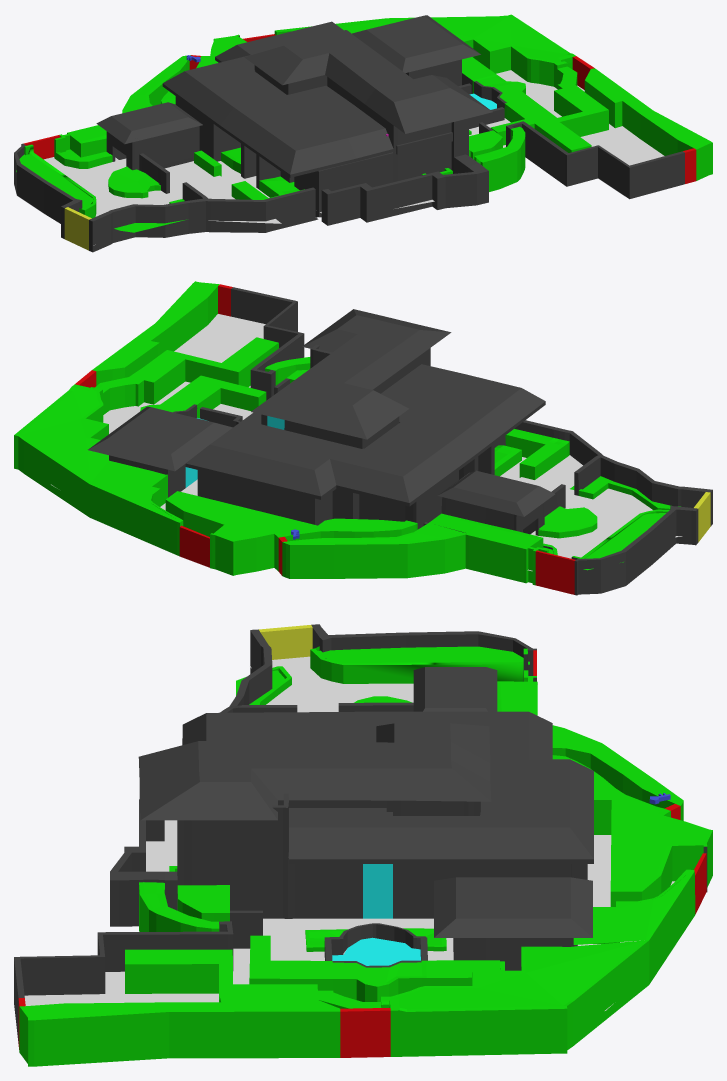
The model's file is AvanceViernes2 1.fbx.
The picture shows the model from 3 angles, top to bottom: view 1: azimuth 30°, elevation 25°; view 2: azimuth 150°, elevation 25°; view 3: azimuth 270°, elevation 25°; orthographic projection. The views are drawn at different scales.
Visible parts, largest first — view 1: BlockoutPrincipal, Techo.002, Techo, Techo.001, Suelo, Plane.001, Plane, Plane.005, Plane.007, Cube.008; view 2: BlockoutPrincipal, Techo.002, Techo, Techo.001, Suelo, Plane.001, Plane, Plane.005, Plane.007; view 3: BlockoutPrincipal, Techo.002, Techo, Techo.001, Plane.001, Plane, Suelo, Plane.005.
Boxes of the visible parts, left/top/right/bottom form: BlockoutPrincipal: left=14, top=14, right=712, bottom=252; Techo.002: left=162, top=21, right=393, bottom=177; Techo: left=244, top=30, right=492, bottom=133; Techo.001: left=352, top=15, right=480, bottom=73; Suelo: left=44, top=157, right=281, bottom=223; Plane.001: left=93, top=70, right=664, bottom=245; Plane: left=96, top=102, right=202, bottom=144; Plane.005: left=16, top=153, right=93, bottom=209; Plane.007: left=110, top=166, right=159, bottom=191; Cube.008: left=396, top=132, right=452, bottom=154; BlockoutPrincipal: left=14, top=281, right=712, bottom=595; Techo.002: left=185, top=364, right=545, bottom=506; Techo: left=251, top=309, right=451, bottom=439; Techo.001: left=88, top=406, right=232, bottom=471; Suelo: left=516, top=455, right=652, bottom=571; Plane.001: left=51, top=314, right=682, bottom=537; Plane: left=437, top=470, right=554, bottom=516; Plane.005: left=583, top=513, right=665, bottom=570; Plane.007: left=539, top=506, right=595, bottom=531; BlockoutPrincipal: left=14, top=624, right=712, bottom=1066; Techo.002: left=182, top=711, right=593, bottom=863; Techo: left=138, top=723, right=491, bottom=820; Techo.001: left=434, top=877, right=592, bottom=937; Plane.001: left=24, top=666, right=674, bottom=1010; Plane: left=413, top=667, right=497, bottom=711; Suelo: left=266, top=656, right=413, bottom=712; Plane.005: left=318, top=646, right=529, bottom=664.
Size of the model in its own units: 1405 by 230 by 1043.
